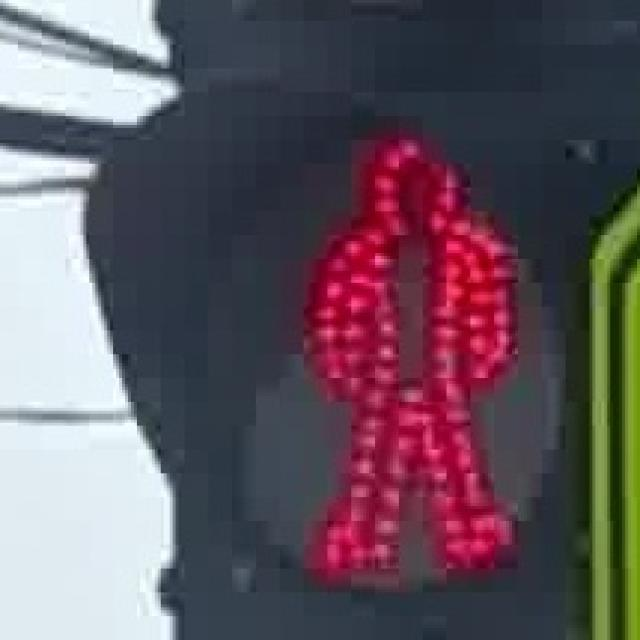red-crossing: (277, 98, 530, 607)
